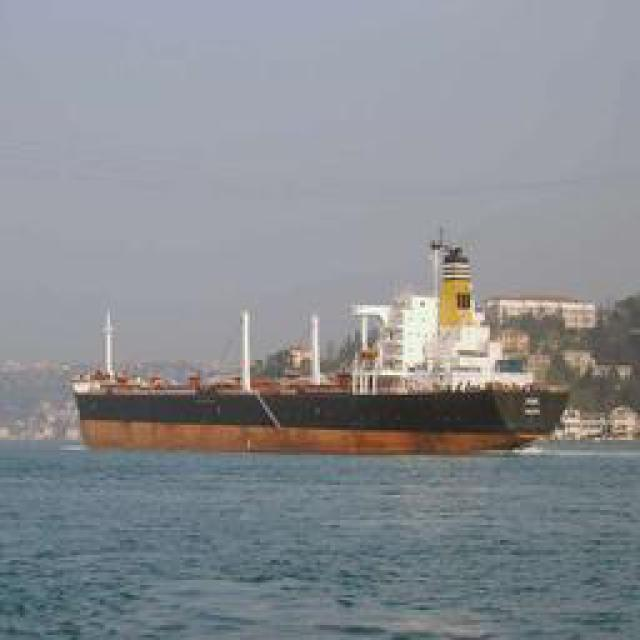Ship: (74, 315, 564, 453)
